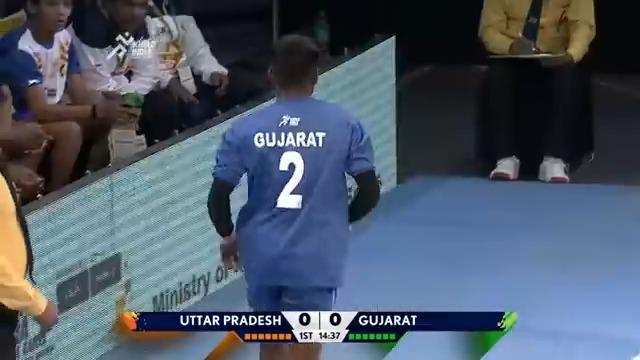Player: (205, 32, 382, 357)
referee: (475, 0, 597, 183), (0, 171, 58, 358)
